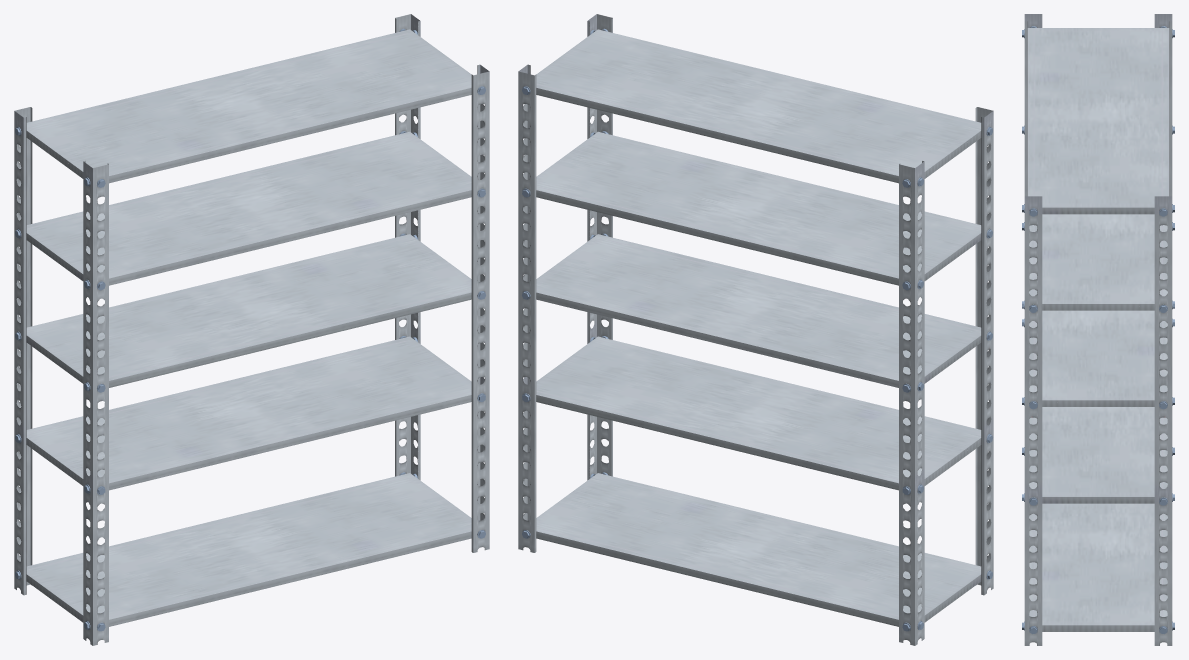
The model's file is steel_shelving.glb.
3 renders of one model, left to right at view 1: azimuth 30°, elevation 25°; view 2: azimuth 150°, elevation 25°; view 3: azimuth 270°, elevation 25°, orthographic. The views are drawn at different scales.
Visible parts, largest first — view 1: steel_shelving; view 2: steel_shelving; view 3: steel_shelving.
Boxes of the visible parts, <box> form: steel_shelving: <box>14,14,489,645</box>; steel_shelving: <box>518,14,993,645</box>; steel_shelving: <box>1022,14,1174,645</box>.
Bounding box in the file's own units: 1.58 × 1.8 × 0.5545.
2 materials, 2 textured.
